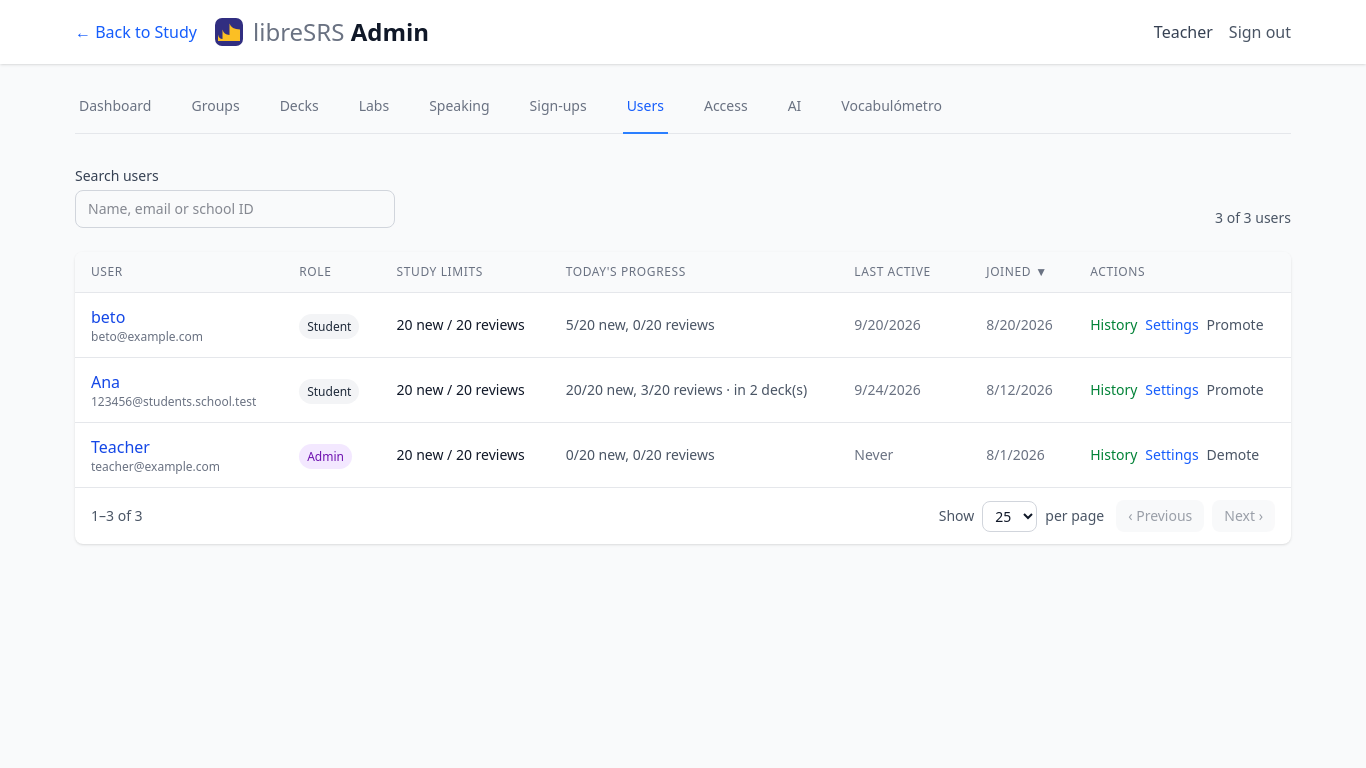
Test: Admin: the Users tab › searches by name, email or school ID, keeping the search in the URL
The width and height of the screenshot is (1366, 768).
Expected: the text "3 of 3 users" is shown, x1=1215 y1=208 x2=1291 y2=228
Type "BETO" into the search field labelled "Search users". click: {"x": 235, "y": 209}
box: x1=75 y1=190 x2=395 y2=228
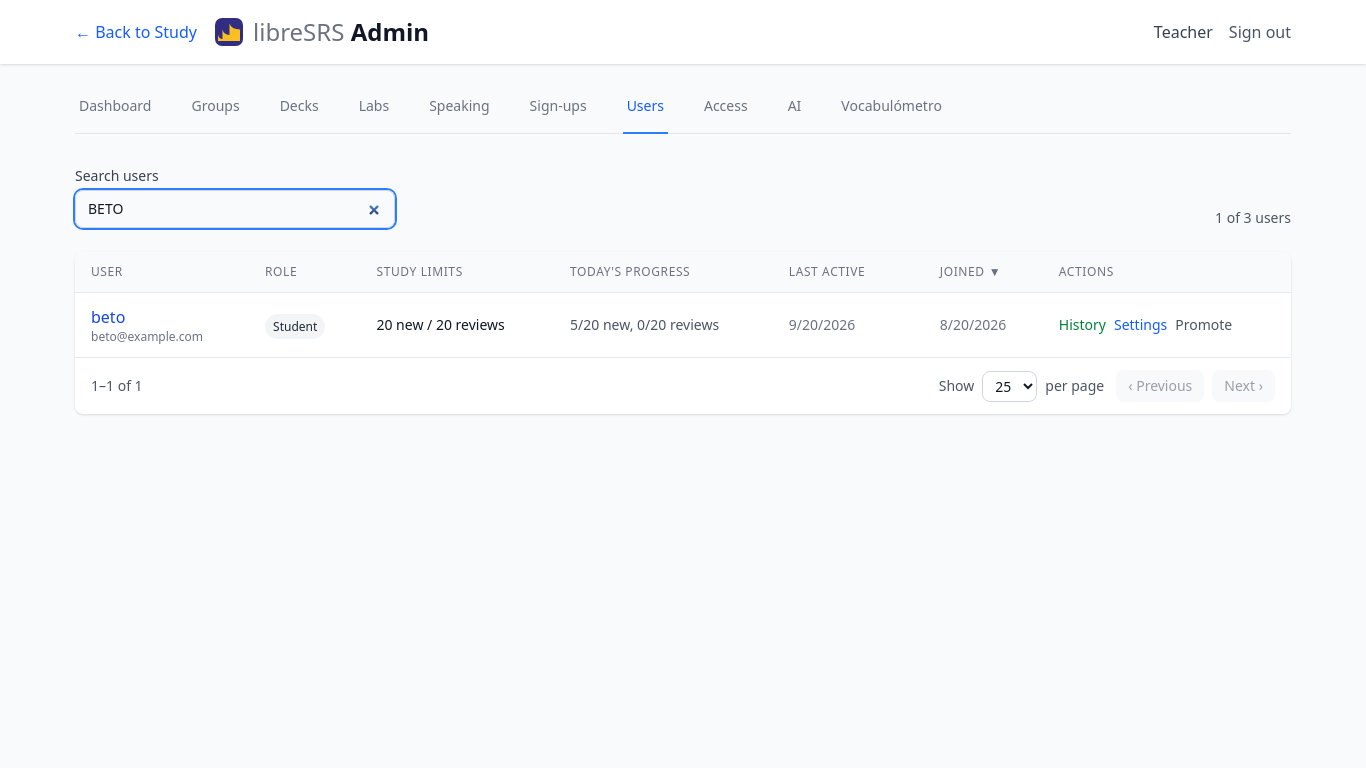
Expected: the text "1 of 3 users" is shown, x1=1215 y1=208 x2=1291 y2=228
Replace the text in the search field labelled "Search users" with "98765". click: {"x": 235, "y": 209}
box: x1=75 y1=190 x2=395 y2=228
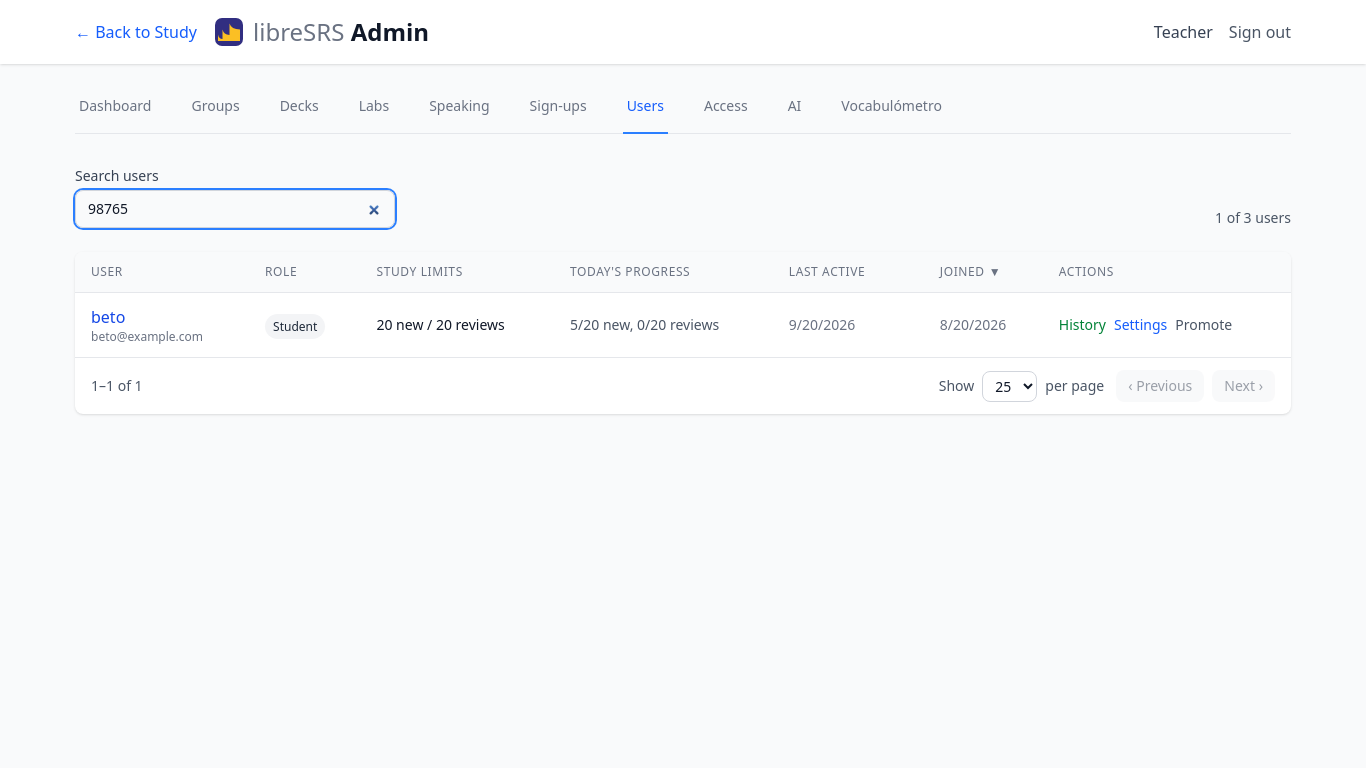
Replace the text in the search field labelled "Search users" with "school.test". click: {"x": 235, "y": 209}
box: x1=75 y1=190 x2=395 y2=228
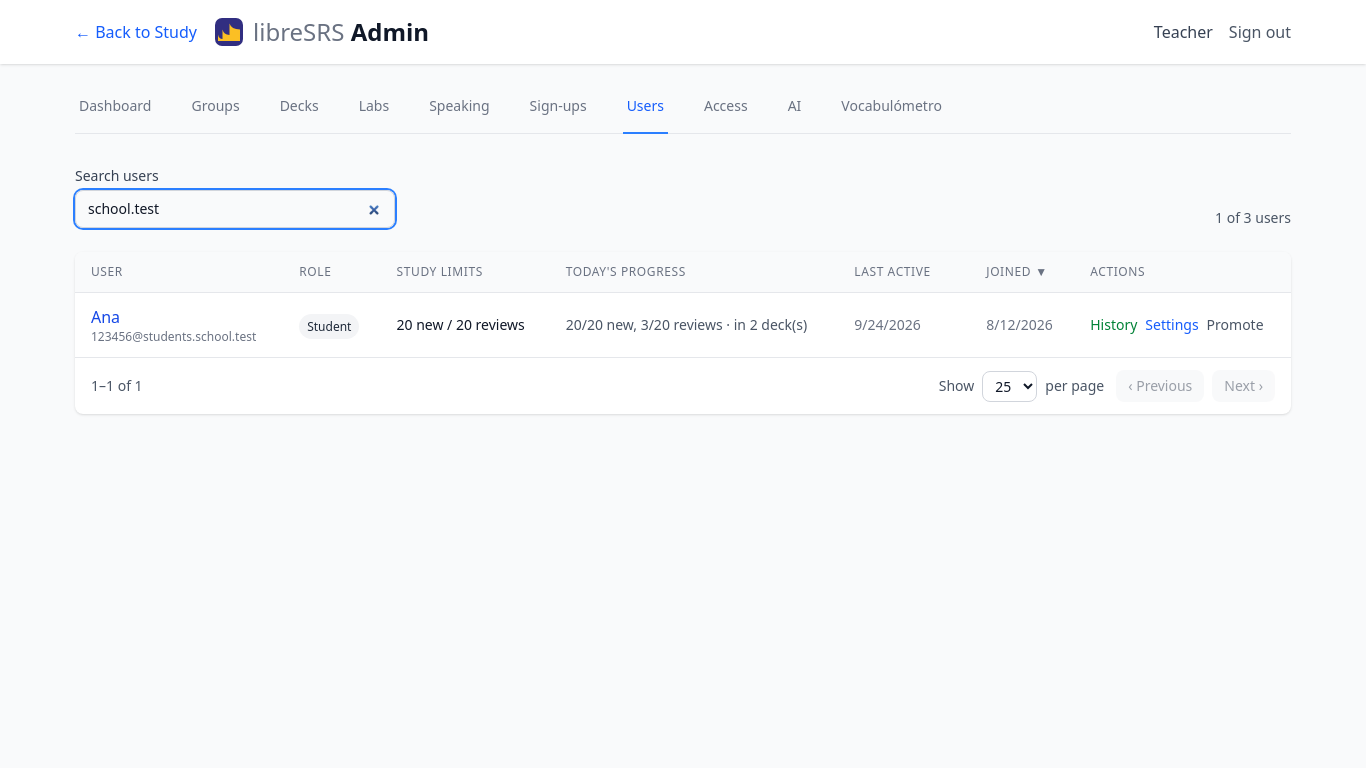
Replace the text in the search field labelled "Search users" with "nobody". click: {"x": 235, "y": 209}
box: x1=75 y1=190 x2=395 y2=228
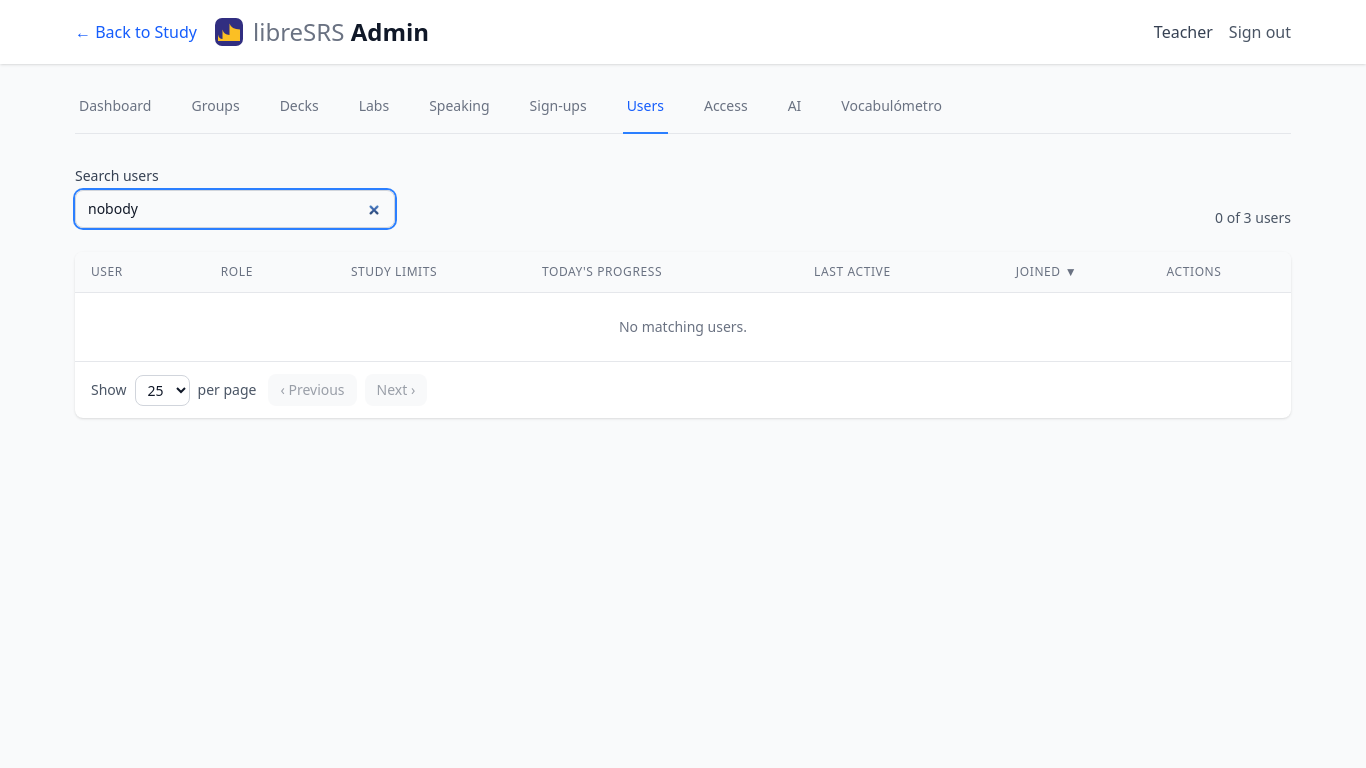
Expected: the text "No matching users." is shown, x1=75 y1=292 x2=1291 y2=361
Expected: the text "0 of 3 users" is shown, x1=1215 y1=208 x2=1291 y2=228
